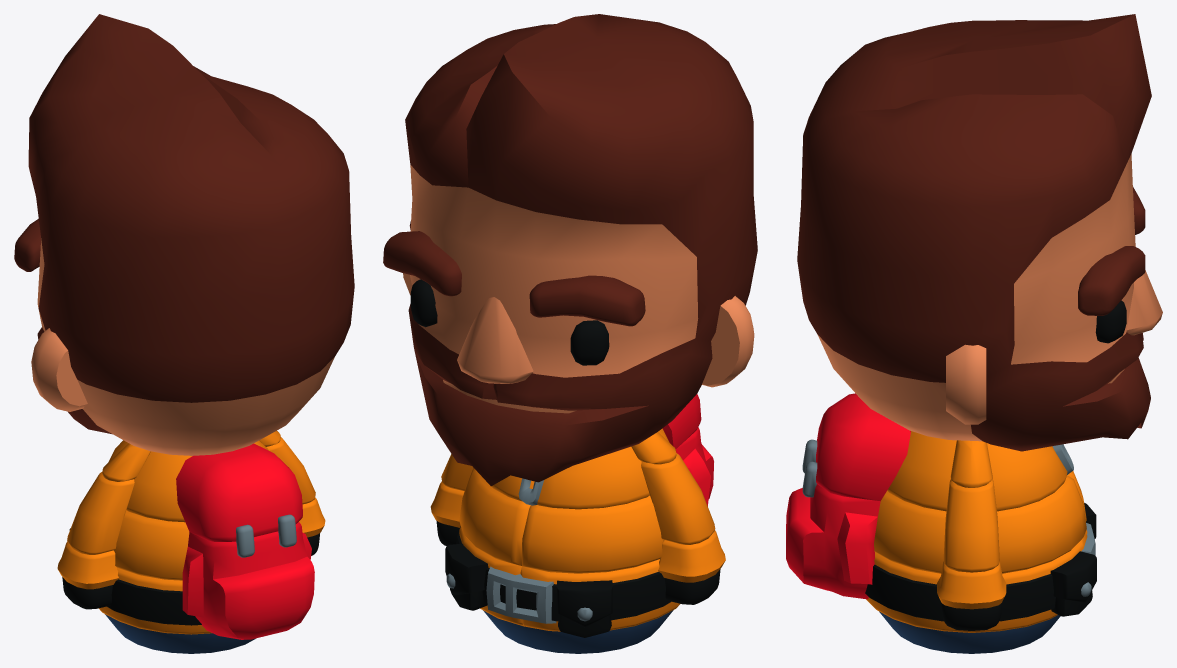
File: Char_Edison.fbx
3 views of the same model, side by side, from view 1: azimuth 30°, elevation 25°; view 2: azimuth 150°, elevation 25°; view 3: azimuth 270°, elevation 25° (orthographic). The views are drawn at different scales.
Visible parts, largest first — view 1: Head, Backpack, Body, ArmLeft, ArmRight; view 2: Head, Body, ArmLeft, Backpack, ArmRight; view 3: Head, Body, Backpack, ArmRight.
Boxes of the visible parts, box(x1,y1,x2,y2) form: Head: box(14, 14, 354, 455); Backpack: box(176, 443, 314, 639); Body: box(69, 440, 268, 653); ArmLeft: box(57, 443, 150, 609); ArmRight: box(259, 430, 325, 555); Head: box(383, 14, 757, 486); Body: box(445, 428, 680, 653); ArmLeft: box(631, 432, 725, 604); Backpack: box(662, 394, 713, 506); ArmRight: box(430, 454, 473, 546); Head: box(797, 14, 1162, 451); Body: box(865, 431, 1096, 653); Backpack: box(786, 393, 910, 599); ArmRight: box(937, 440, 1006, 630).
Bounding box in the file's own units: 46.28 × 44.85 × 78.37.
